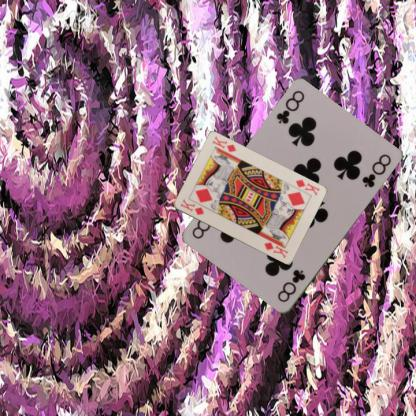8c: (274, 267, 307, 304), (274, 88, 306, 126)
Kd: (293, 176, 321, 197), (177, 197, 205, 216)
